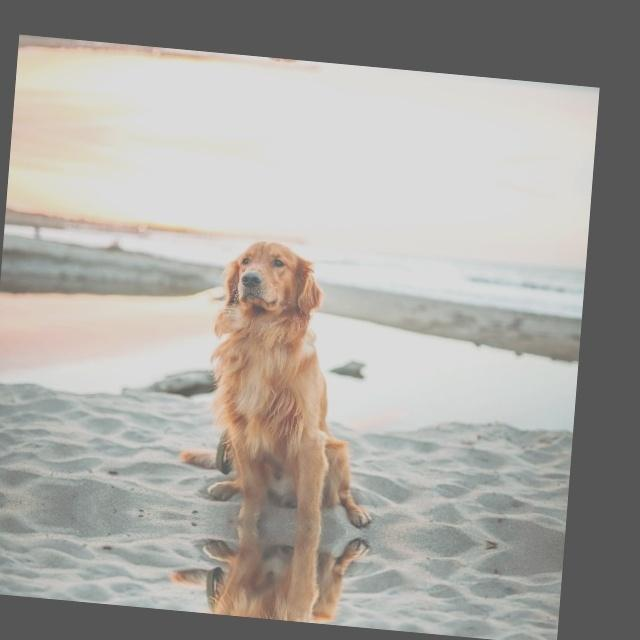dog: (186, 228, 360, 530), (180, 518, 338, 624), (222, 54, 373, 78)
